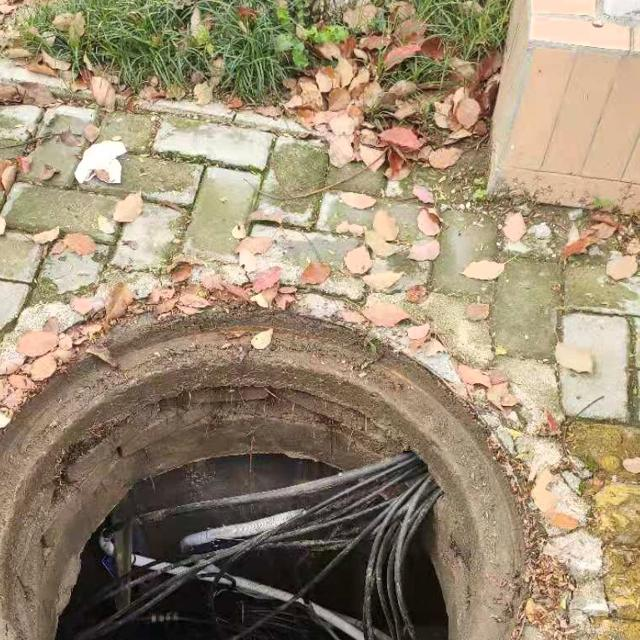lose: (0, 273, 531, 640)
